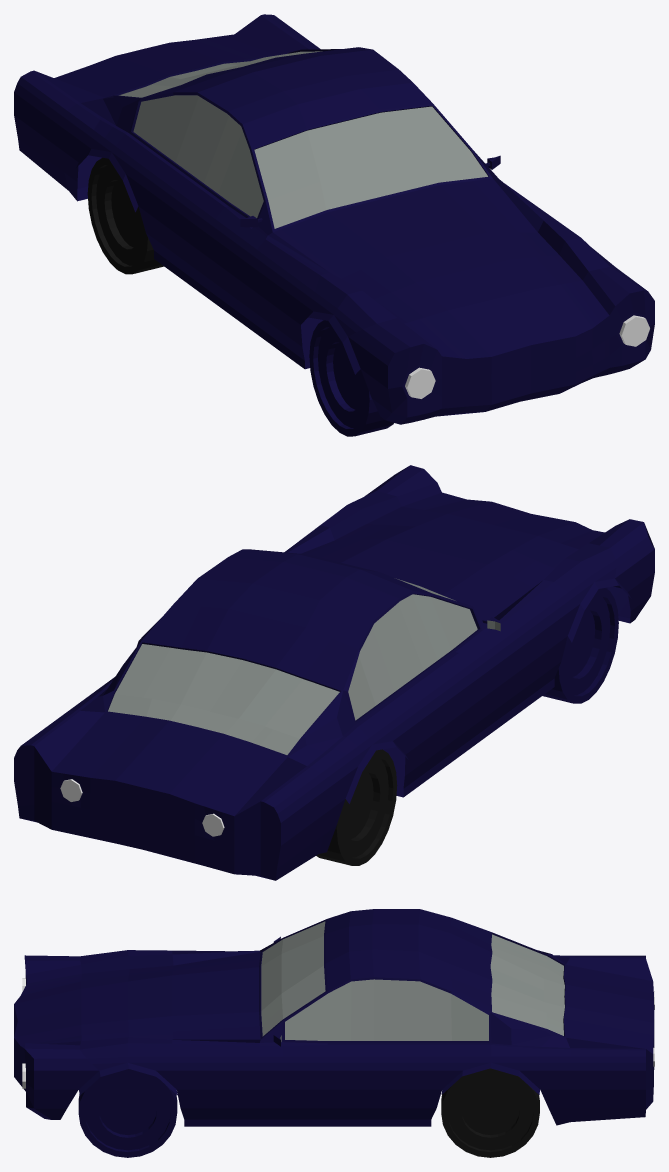
Rendered from Sports Car (fixed face orientation).fbx.
3 views of the same model, one above another, from view 1: azimuth 30°, elevation 25°; view 2: azimuth 150°, elevation 25°; view 3: azimuth 270°, elevation 25° (orthographic). The views are drawn at different scales.
Visible parts, largest first — view 1: Car; view 2: Car; view 3: Car.
Boxes of the visible parts, x1=… form: Car: x1=14, y1=14, x2=654, y2=436; Car: x1=14, y1=465, x2=654, y2=880; Car: x1=14, y1=909, x2=654, y2=1157.
Bounding box in the file's own units: 141 × 102 × 346.
